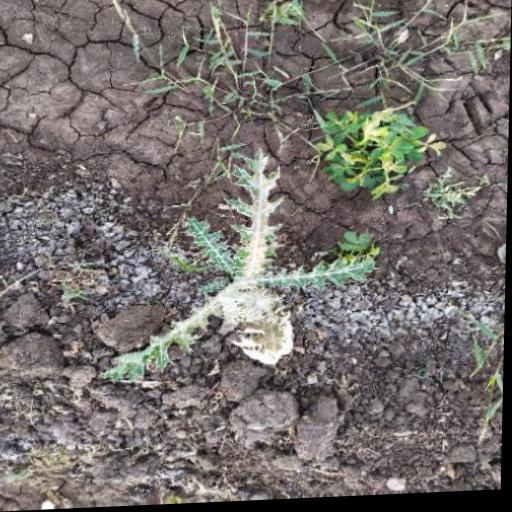weed: (93, 113, 451, 412), (99, 0, 487, 125), (309, 115, 455, 211)
